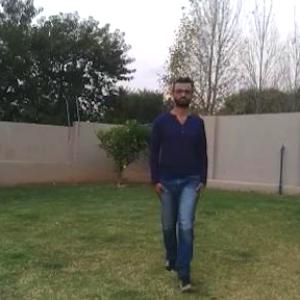follow: (155, 91, 201, 274)
